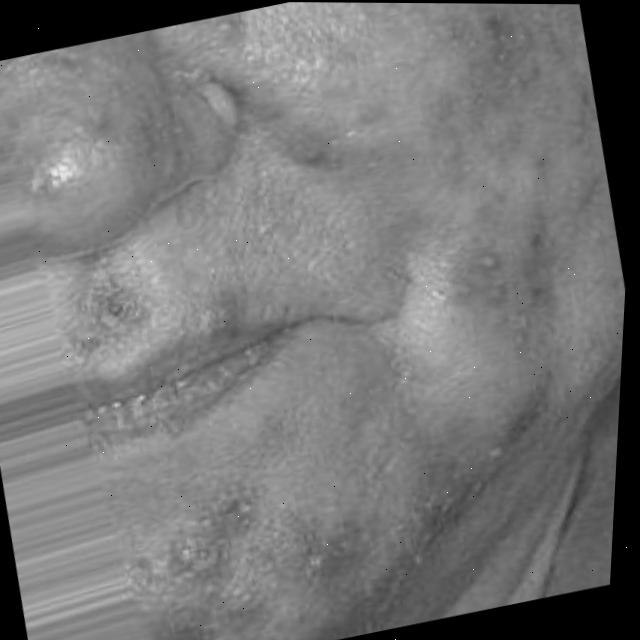Rosacea: (133, 443, 392, 640), (0, 42, 112, 166), (424, 238, 534, 340), (474, 4, 579, 96), (91, 279, 155, 353)
